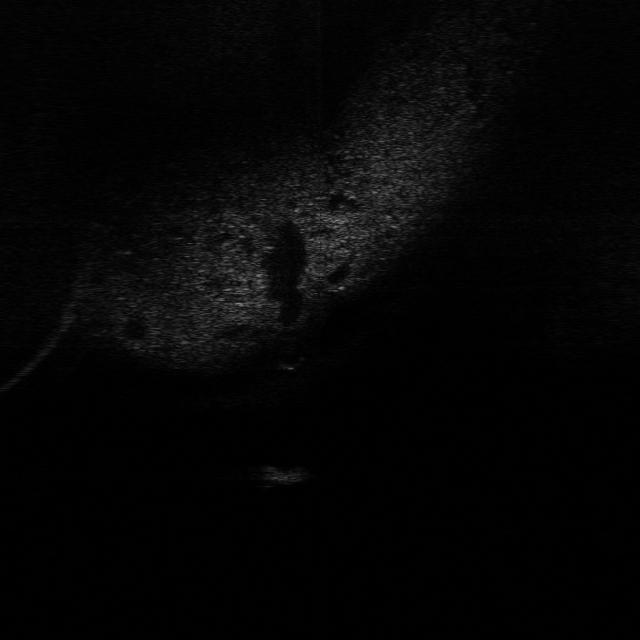ball: (272, 343, 308, 373)
cube: (248, 462, 314, 488)
